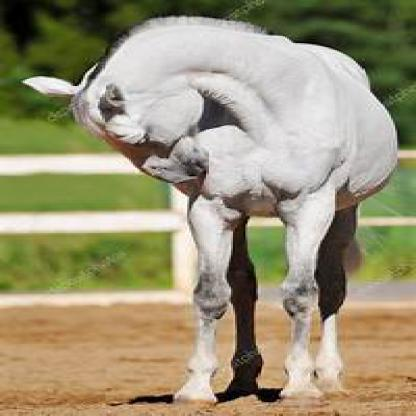horse: (19, 13, 399, 406)
